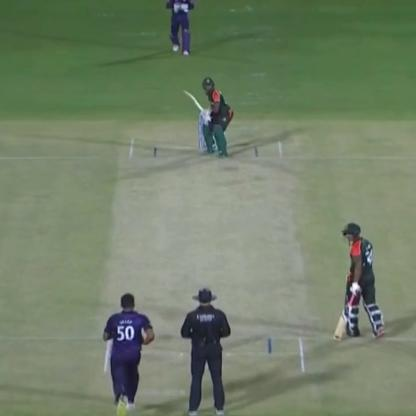pitch: (102, 138, 315, 382)
